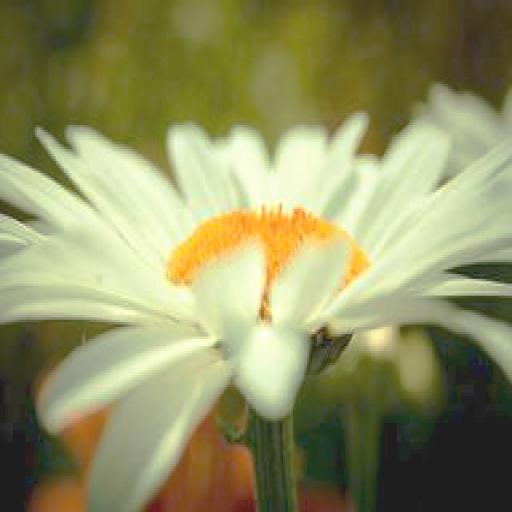daisy: (0, 3, 511, 511)
